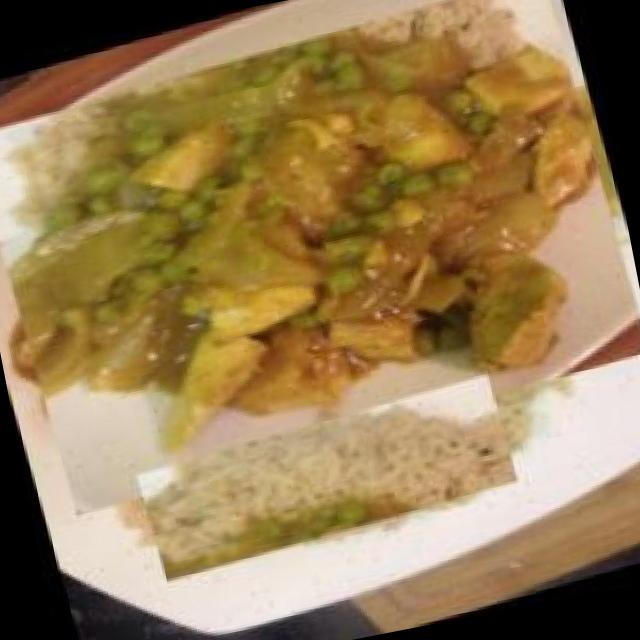curry: (0, 0, 640, 524)
rice: (130, 370, 526, 584)
